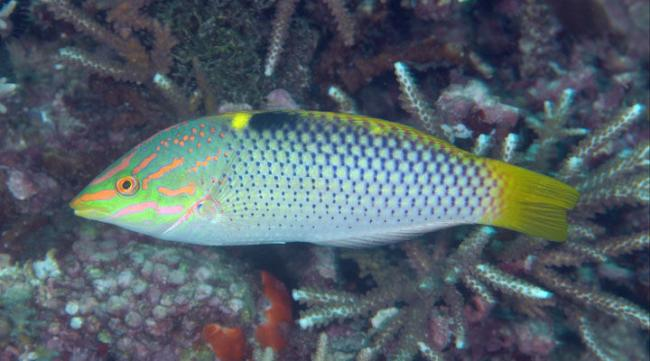fish: (68, 109, 580, 248)
